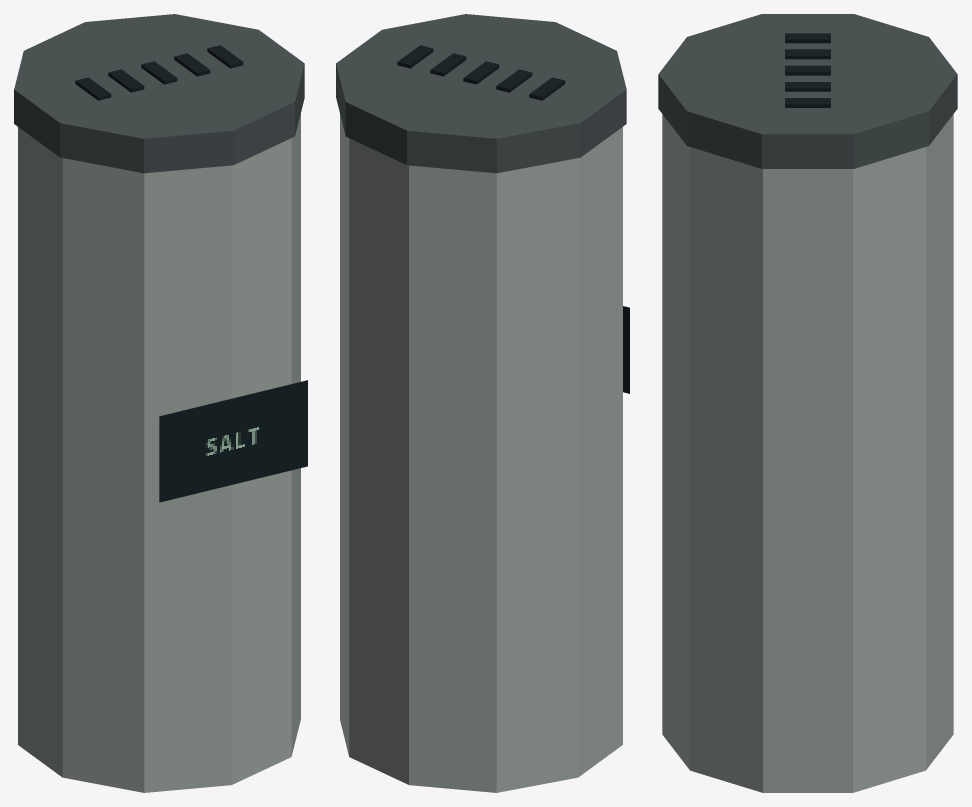
Rendered from blender_salt_3.glb.
3 views of the same model, side by side, from view 1: azimuth 30°, elevation 25°; view 2: azimuth 150°, elevation 25°; view 3: azimuth 270°, elevation 25° (orthographic).
Parts seen in each view (by area): view 1: blender_salt_3; view 2: blender_salt_3; view 3: blender_salt_3.
Boxes of the visible parts, x1=… form: blender_salt_3: x1=14, y1=14, x2=307, y2=792; blender_salt_3: x1=336, y1=14, x2=629, y2=792; blender_salt_3: x1=658, y1=14, x2=957, y2=792.
Bounding box in the file's own units: 0.0742 × 0.1915 × 0.078.
Materials: 1 (1 with a texture image).
